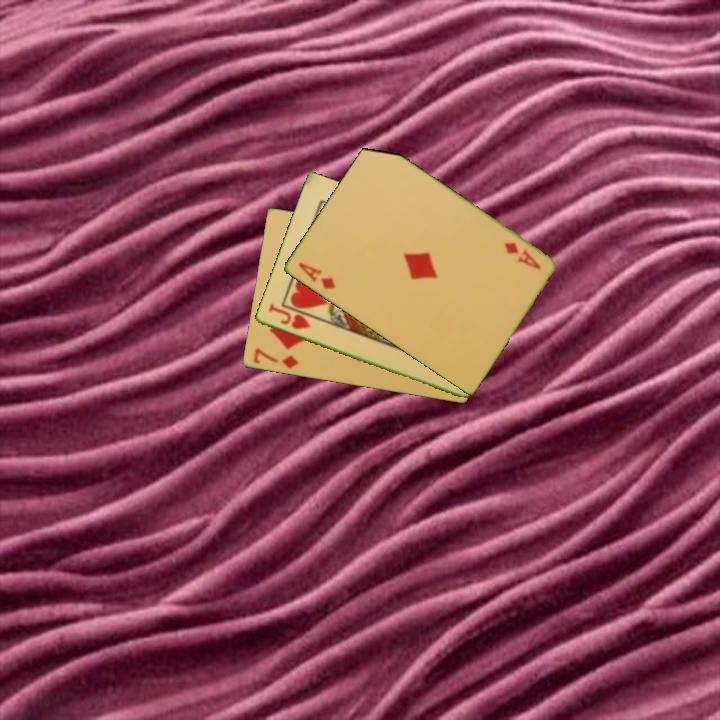7d: (250, 345, 301, 372)
Ad: (294, 258, 338, 292), (500, 239, 544, 273)
Jh: (264, 301, 314, 332)
